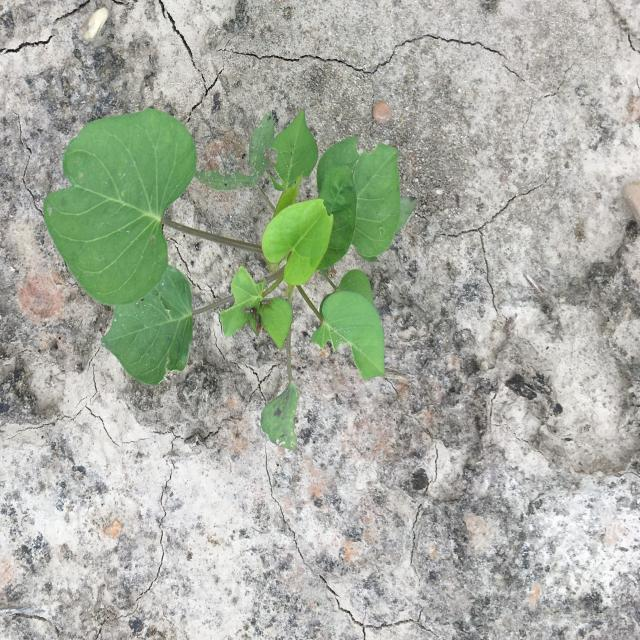MorningGlory: (43, 108, 417, 450)
